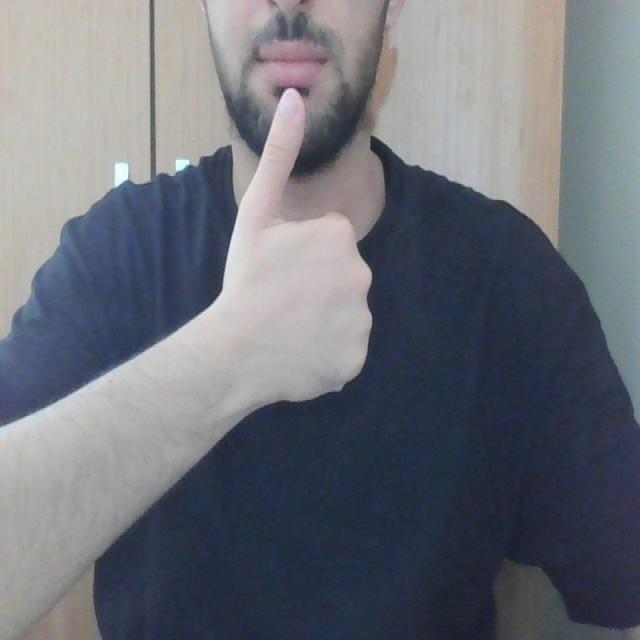Baba: (226, 20, 338, 198)
